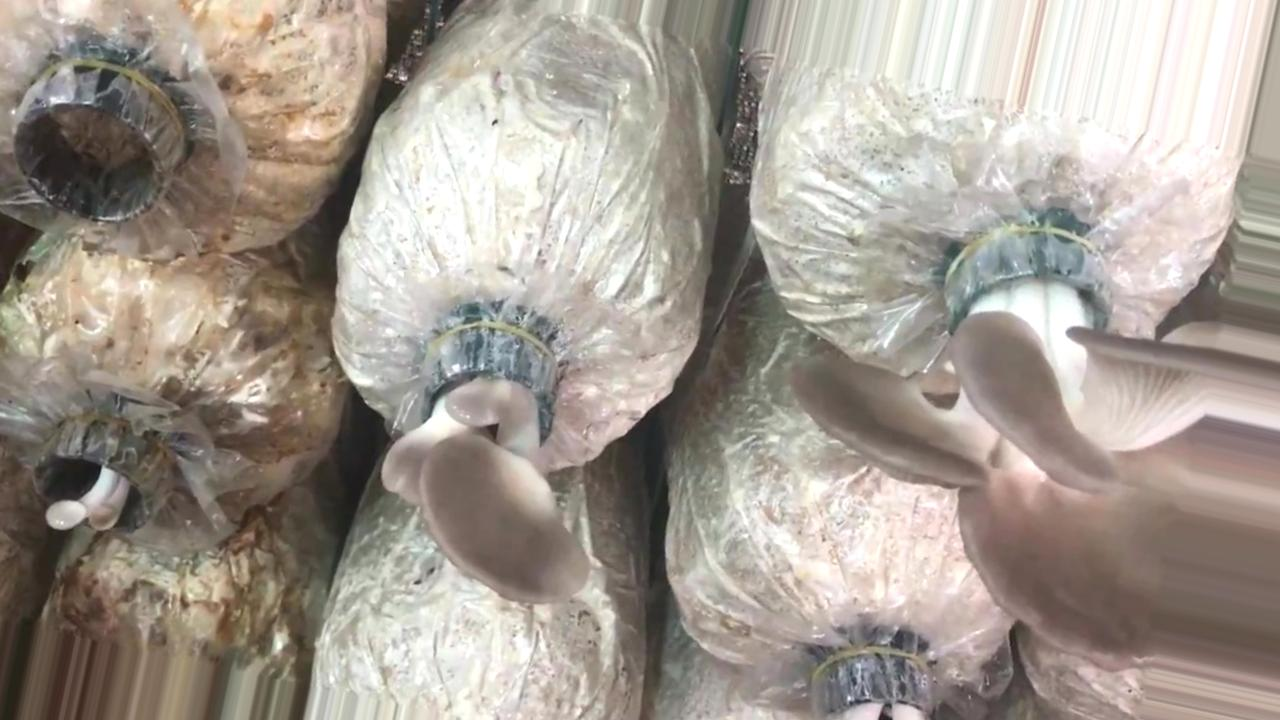nam: (791, 232, 1280, 672), (384, 316, 589, 606), (24, 434, 156, 532)
